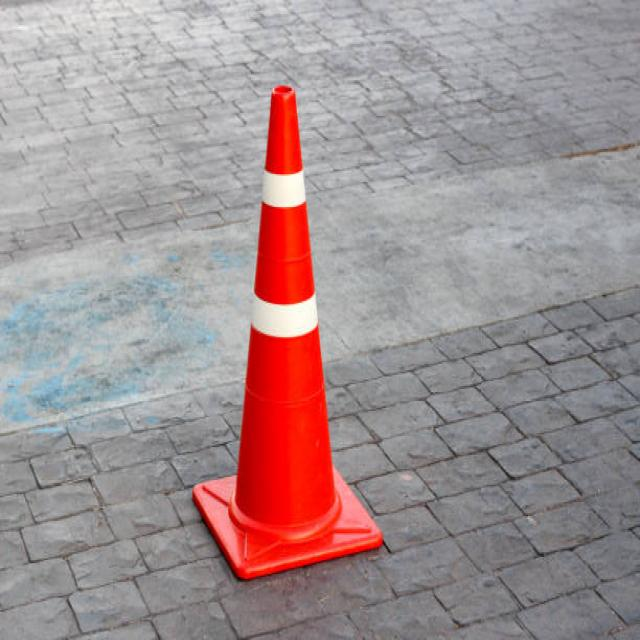Traffic Cone: (171, 36, 400, 592)
